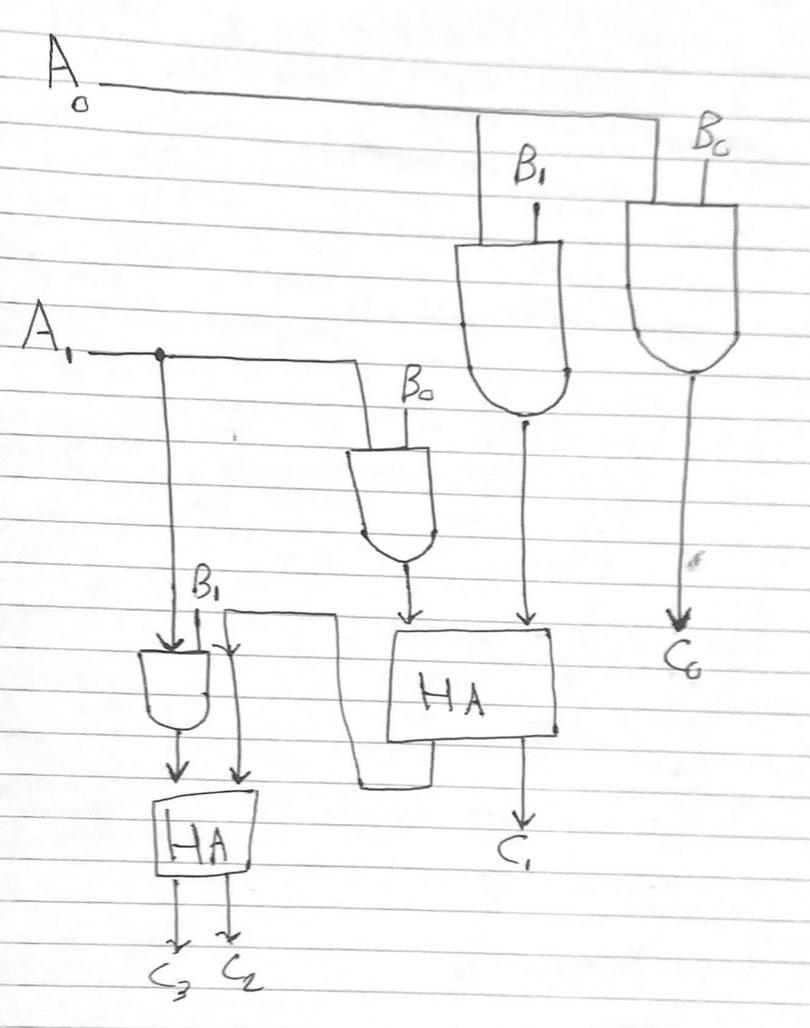AND: (612, 188, 763, 397), (440, 228, 593, 432), (332, 434, 448, 578), (128, 632, 224, 746)
